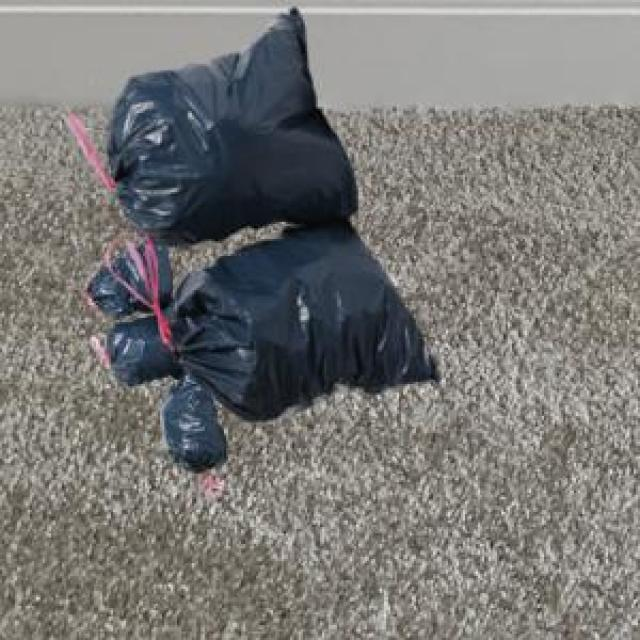Vinyl: (88, 10, 438, 471)
